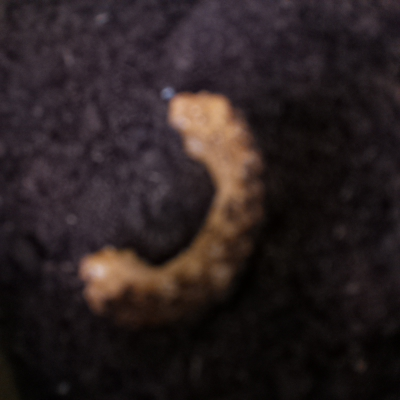eggs: (74, 80, 280, 337)
